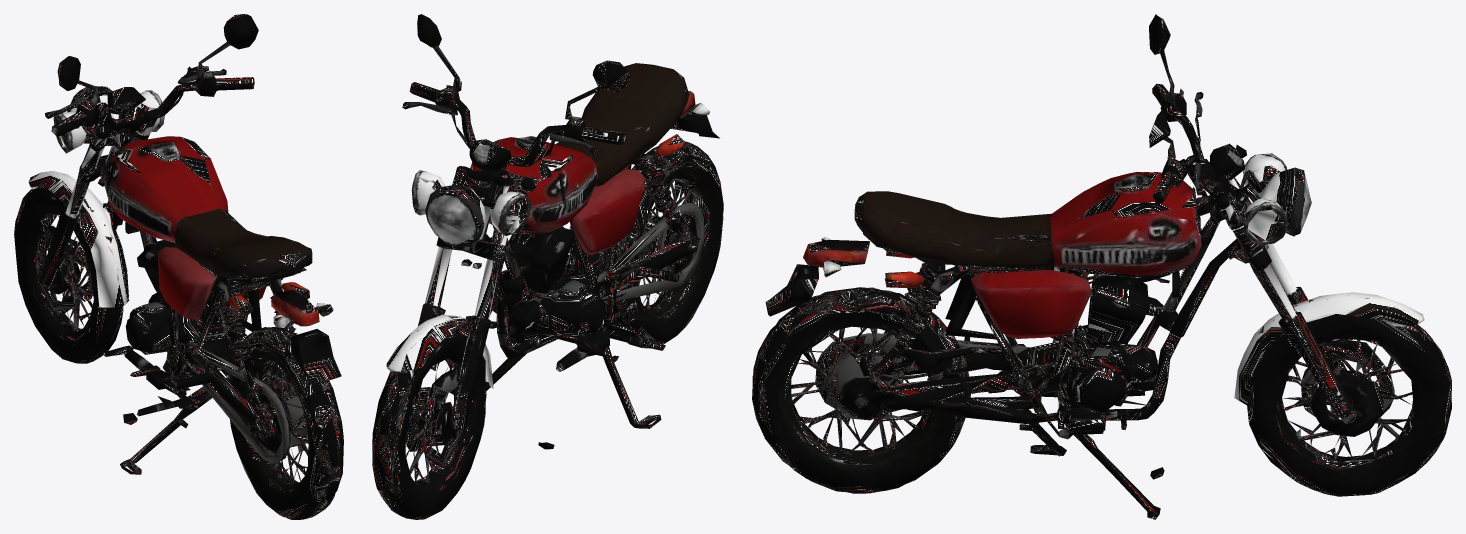
The model's file is moto-urbana.glb.
3 renders of one model, left to right at view 1: azimuth 30°, elevation 25°; view 2: azimuth 150°, elevation 25°; view 3: azimuth 270°, elevation 25°, orthographic. The views are drawn at different scales.
Visible parts, largest first — view 1: corpo, rodaT, rodaD; view 2: corpo, rodaD, rodaT; view 3: corpo, rodaD, rodaT.
Boxes of the visible parts, <box> form: corpo: <box>29,14,341,474</box>; rodaT: <box>176,324,343,519</box>; rodaD: <box>14,175,129,363</box>; corpo: <box>386,14,719,449</box>; rodaD: <box>372,313,493,519</box>; rodaT: <box>581,143,723,348</box>; corpo: <box>765,14,1424,519</box>; rodaD: <box>1234,287,1451,496</box>; rodaT: <box>752,289,1000,493</box>.
Size of the model in its own units: 0.7393 by 1.35 by 1.98.
1 material, 1 textured.
